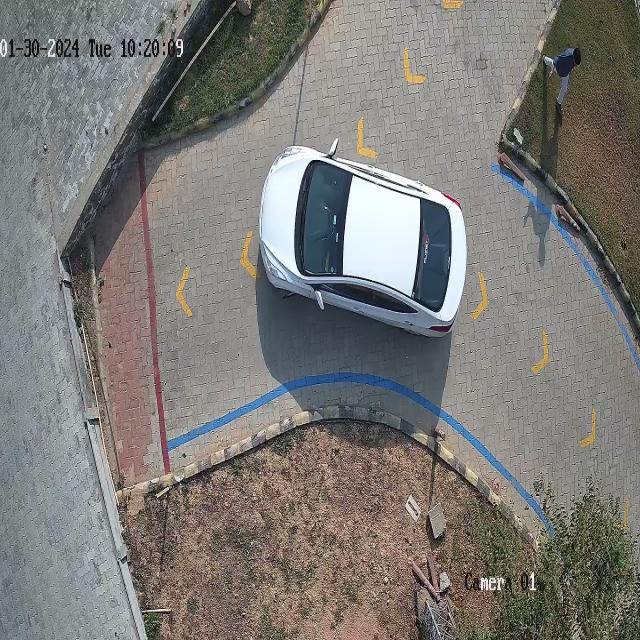car: (259, 140, 466, 336)
